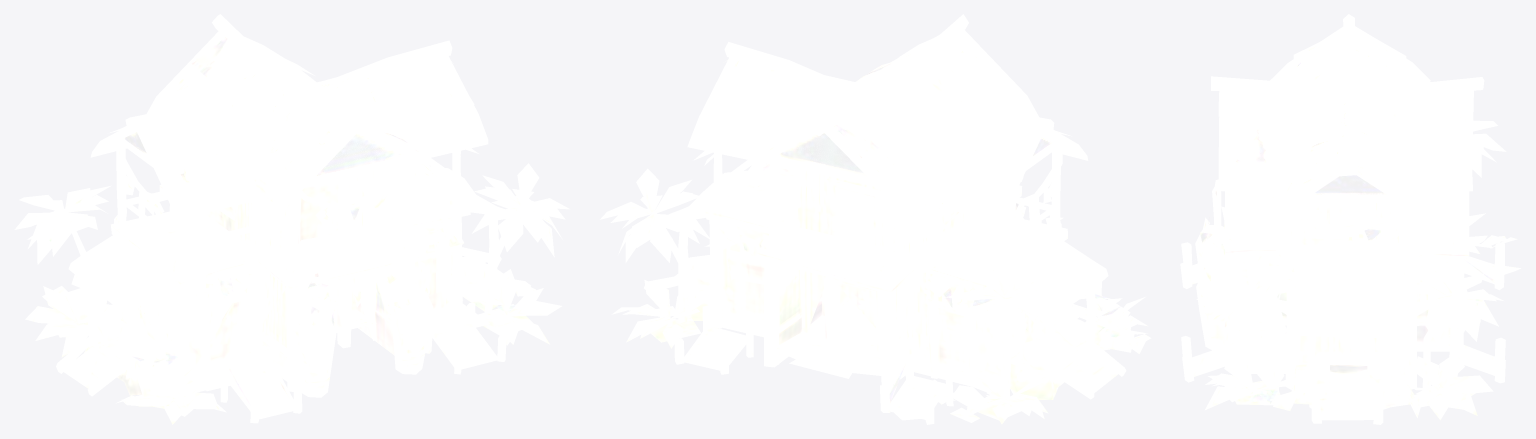
The model's file is casa-bambu.glb.
3 views of the same model, side by side, from view 1: azimuth 30°, elevation 25°; view 2: azimuth 150°, elevation 25°; view 3: azimuth 270°, elevation 25° (orthographic). The views are drawn at different scales.
Parts seen in each view (by area): view 1: mesh_node; view 2: mesh_node; view 3: mesh_node.
Part boxes in pixels (box(x1,y1,x2,y2)): mesh_node: box(14, 14, 569, 424); mesh_node: box(600, 14, 1151, 424); mesh_node: box(1180, 14, 1520, 424).
Size of the model in its own units: 1 by 0.582 by 0.7129.
1 material, 1 textured.
